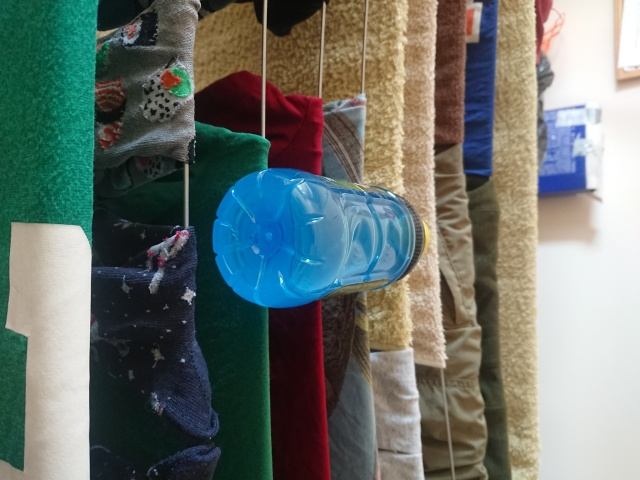Vindi Iso Sport Forest Strawberries 500mL: (208, 165, 433, 309)
